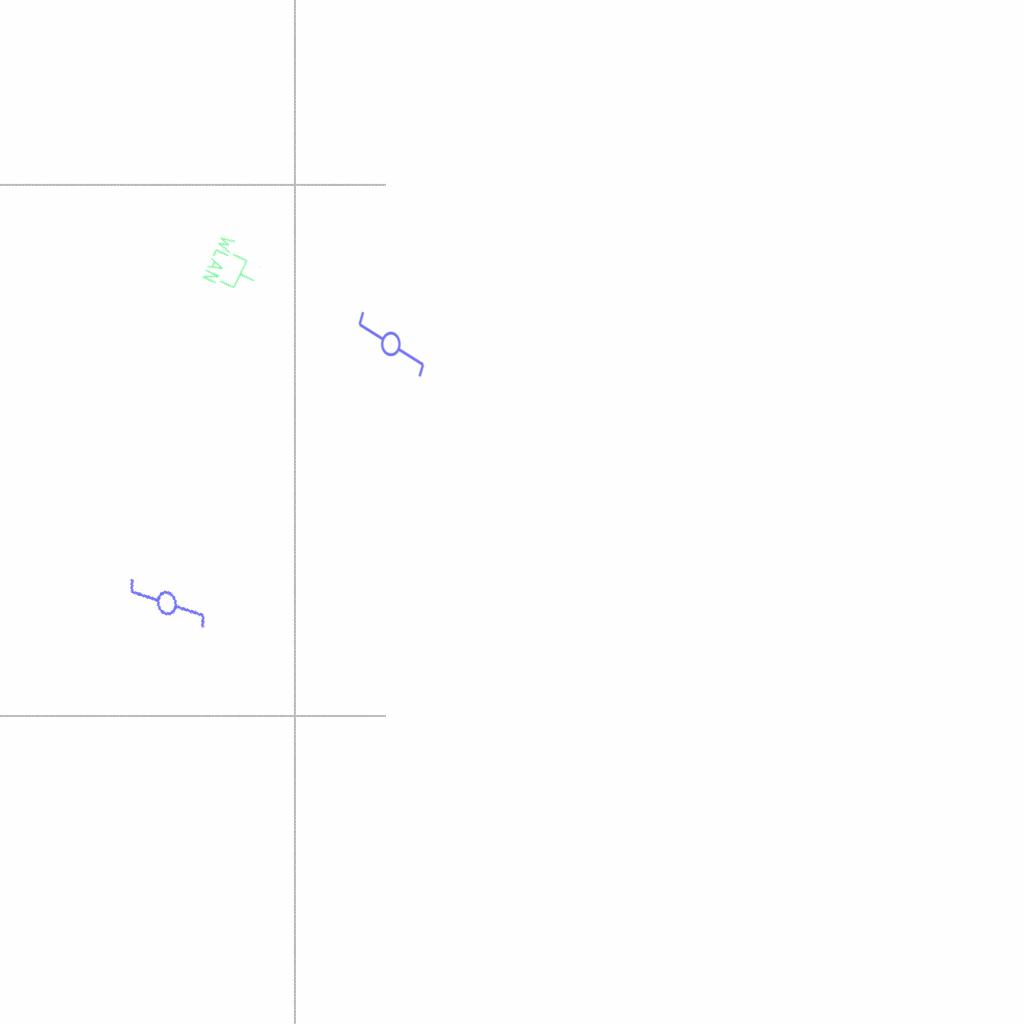WLAN: (199, 231, 269, 301)
Wechselschalter: (122, 552, 212, 646), (356, 301, 428, 379)
